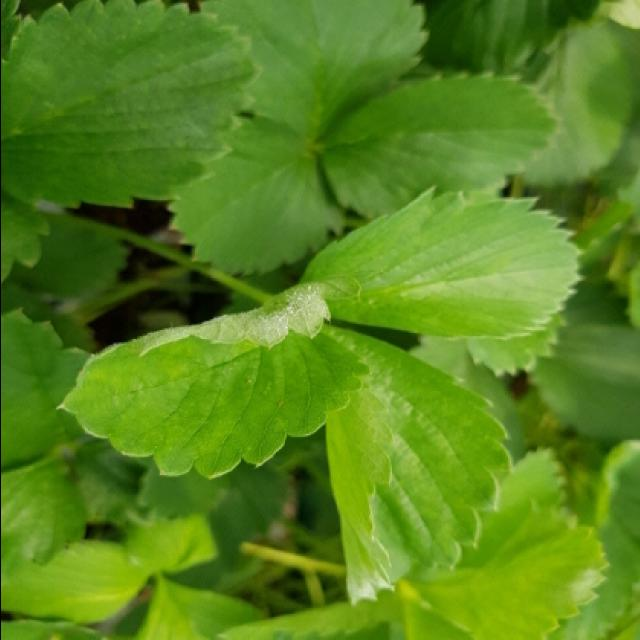Powdery Mildew Leaf: (55, 278, 372, 483)
